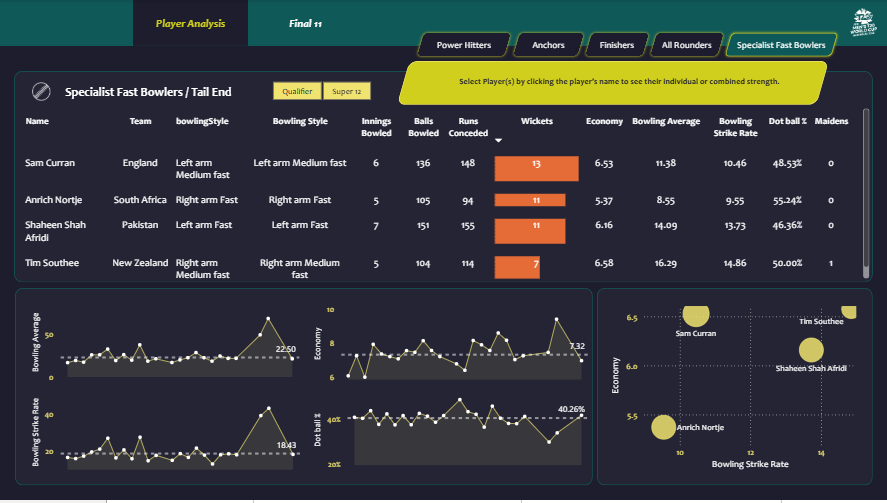

Layout of this report page (visuals, bound fields, positions):
{"tool":"powerbi","page":{"name":"New Specialist Fast Bowlers / Tail End","canvas":[1280,720],"ordinal":4},"visuals":[{"type":"shape","box":[0,66,1280,654],"z":0},{"type":"group","id":"g1","title":"Group 2","box":[83.8,116.2,260,31.2],"z":0,"group":"g2"},{"type":"shape","box":[83.8,116.2,260,31.2],"z":0,"group":"g1"},{"type":"image","box":[38,114,44,36],"z":1000,"group":"g2"},{"type":"shape","box":[21,414,832,284],"z":1000},{"type":"actionButton","title":"Button Anchores","box":[734,42.6,111,42],"z":2000},{"type":"actionButton","title":"Button  Power Hitters","box":[596,42.6,144,42],"z":3000},{"type":"card","fields":{"Values":["Key_Measures.Bowling Strike Rate"]},"box":[867,89,93,60],"z":3500,"group":"g3"},{"type":"actionButton","title":"Button Finishers","box":[838,42.6,101,42],"z":4000},{"type":"card","fields":{"Values":["Key_Measures.Bowling Average"]},"box":[768,89,92,60],"z":4000,"group":"g3"},{"type":"card","fields":{"Values":["Key_Measures.Dot ball %"]},"box":[1073,89,100,60],"z":4500,"group":"g3"},{"type":"actionButton","title":"Button All Rounders","box":[932,42.6,115,42],"z":5000},{"type":"card","fields":{"Values":["Key_Measures.Economy"]},"box":[966,89,101,60],"z":5000,"group":"g3"},{"type":"actionButton","title":"Button Fast Bowler selected","box":[1039,42.6,171,42],"z":6000},{"type":"image","box":[1220,3,48,59],"z":7000},{"type":"shape","box":[860,414,397,284],"z":9000},{"type":"shape","box":[20,102.2,1236.7,304.4],"z":10000},{"type":"slicer","fields":{"Values":["dim_match_summary.stage"]},"box":[366.7,111.1,191.1,38.9],"z":11000},{"type":"tableEx","fields":{"Values":["dim_player.name","Min(dim_player.team)","dim_player.bowlingStyle","Min(dim_player.Bowling Style)","Key_Measures.Total Innings Bowled","Key_Measures.Balls Bowled","Key_Measures.Runs Conceded","Key_Measures.wickets","Key_Measures.Economy","Key_Measures.Bowling Average","Key_Measures.Bowling Strike Rate","Key_Measures.Dot ball %"]},"box":[26,151,1231,255],"z":12000},{"type":"shape","box":[572,88,622,63],"z":13000},{"type":"group","id":"g2","title":"Group 1","box":[38,114,305.8,36],"z":15000},{"type":"scatterChart","fields":{"Category":["dim_player.name"],"X":["Key_Measures.Bowling Strike Rate"],"Y":["Key_Measures.Economy"],"Size":["Key_Measures.wickets"]},"box":[874,427,370,253.8],"z":16000},{"type":"actionButton","title":"Button Player Ana selected","box":[191,0,166,66],"z":17000},{"type":"actionButton","title":"Button Player Ana selected","box":[357,0,166,66],"z":18000},{"type":"areaChart","fields":{"Category":["dim_match_summary.Match_Date.Variation.Date Hierarchy.Day"],"Y":["Key_Measures.Economy"]},"box":[446,430,406,126],"z":19000},{"type":"areaChart","fields":{"Category":["dim_match_summary.Match_Date.Variation.Date Hierarchy.Day"],"Y":["Key_Measures.Dot ball %"]},"box":[446,556,406,126],"z":20000},{"type":"areaChart","fields":{"Category":["dim_match_summary.Match_Date.Variation.Date Hierarchy.Day"],"Y":["Key_Measures.Bowling Average"]},"box":[40,428.9,395.6,126.7],"z":21000},{"type":"areaChart","fields":{"Category":["dim_match_summary.Match_Date.Variation.Date Hierarchy.Day"],"Y":["Key_Measures.Bowling Strike Rate"]},"box":[40,555.6,396.7,125.6],"z":22000},{"type":"shape","box":[595,103,173,34],"z":25000},{"type":"group","id":"g3","title":"Combined Perfoamce Metrices","box":[768,89,405,60],"z":25500},{"type":"shape","box":[612,100,560,36],"z":26001}]}

Visuals, with their boxes in screenshot pixels (x1, y1, x2, y2), scaled from the page's 1280x720 canvas onto the 887x503 screenshot:
shape: (0, 46, 886, 502)
"Group 2" group: (58, 81, 238, 103)
shape: (58, 81, 238, 103)
image: (26, 80, 57, 105)
shape: (15, 289, 591, 488)
"Button Anchores" actionButton: (509, 30, 586, 59)
"Button  Power Hitters" actionButton: (413, 30, 513, 59)
card - Key_Measures.Bowling Strike Rate: (601, 62, 665, 104)
"Button Finishers" actionButton: (581, 30, 651, 59)
card - Key_Measures.Bowling Average: (532, 62, 596, 104)
card - Key_Measures.Dot ball %: (744, 62, 813, 104)
"Button All Rounders" actionButton: (646, 30, 726, 59)
card - Key_Measures.Economy: (669, 62, 739, 104)
"Button Fast Bowler selected" actionButton: (720, 30, 838, 59)
image: (845, 2, 879, 43)
shape: (596, 289, 871, 488)
shape: (14, 71, 871, 284)
slicer - dim_match_summary.stage: (254, 78, 387, 105)
tableEx - dim_player.name x Min(dim_player.team): (18, 105, 871, 284)
shape: (396, 61, 827, 105)
"Group 1" group: (26, 80, 238, 105)
scatterChart - dim_player.name x Key_Measures.Bowling Strike Rate: (606, 298, 862, 476)
"Button Player Ana selected" actionButton: (132, 0, 247, 46)
"Button Player Ana selected" actionButton: (247, 0, 362, 46)
areaChart - dim_match_summary.Match_Date.Variation.Date Hierarchy.Day x Key_Measures.Economy: (309, 300, 590, 388)
areaChart - dim_match_summary.Match_Date.Variation.Date Hierarchy.Day x Key_Measures.Dot ball %: (309, 388, 590, 476)
areaChart - dim_match_summary.Match_Date.Variation.Date Hierarchy.Day x Key_Measures.Bowling Average: (28, 300, 302, 388)
areaChart - dim_match_summary.Match_Date.Variation.Date Hierarchy.Day x Key_Measures.Bowling Strike Rate: (28, 388, 303, 476)
shape: (412, 72, 532, 96)
"Combined Perfoamce Metrices" group: (532, 62, 813, 104)
shape: (424, 70, 812, 95)
